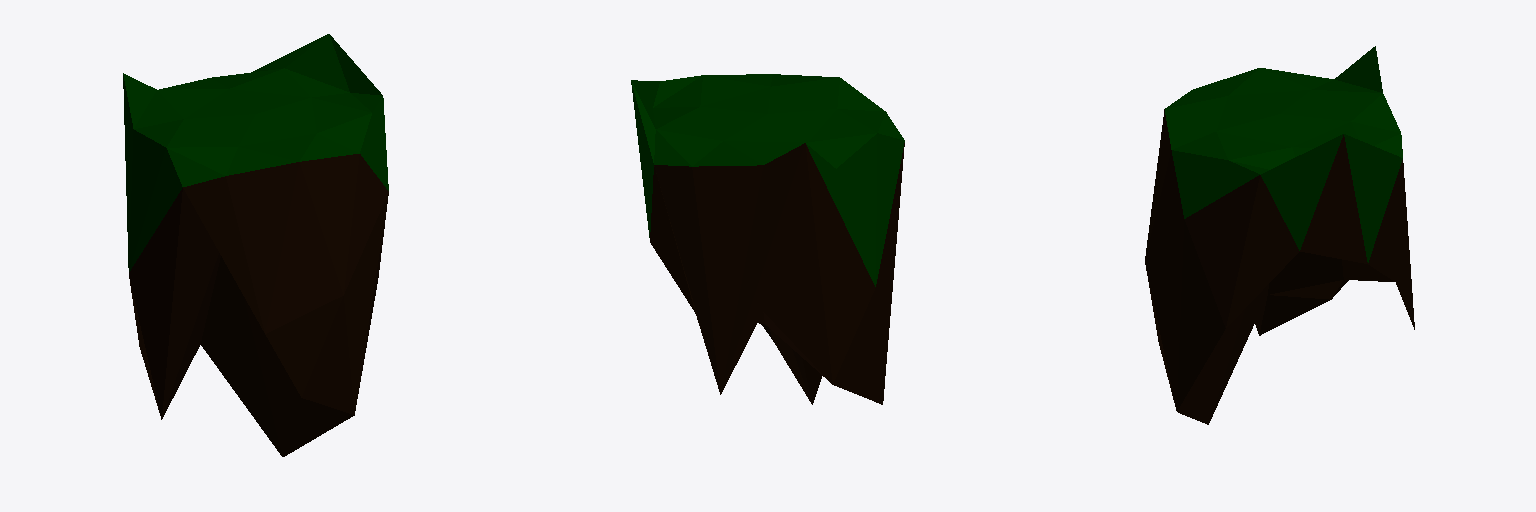
The model's file is floatingisland_1.obj.
3 renders of one model, left to right at view 1: azimuth 30°, elevation 25°; view 2: azimuth 150°, elevation 25°; view 3: azimuth 270°, elevation 25°, orthographic.
Parts seen in each view (by area): view 1: Icosphere.008_Icosphere.009; view 2: Icosphere.008_Icosphere.009; view 3: Icosphere.008_Icosphere.009.
Part boxes in pixels (left/top/right/bottom): Icosphere.008_Icosphere.009: left=123, top=34, right=388, bottom=456; Icosphere.008_Icosphere.009: left=631, top=74, right=904, bottom=404; Icosphere.008_Icosphere.009: left=1145, top=46, right=1414, bottom=424.
Bounding box in the file's own units: 1.64 × 2.31 × 1.63.